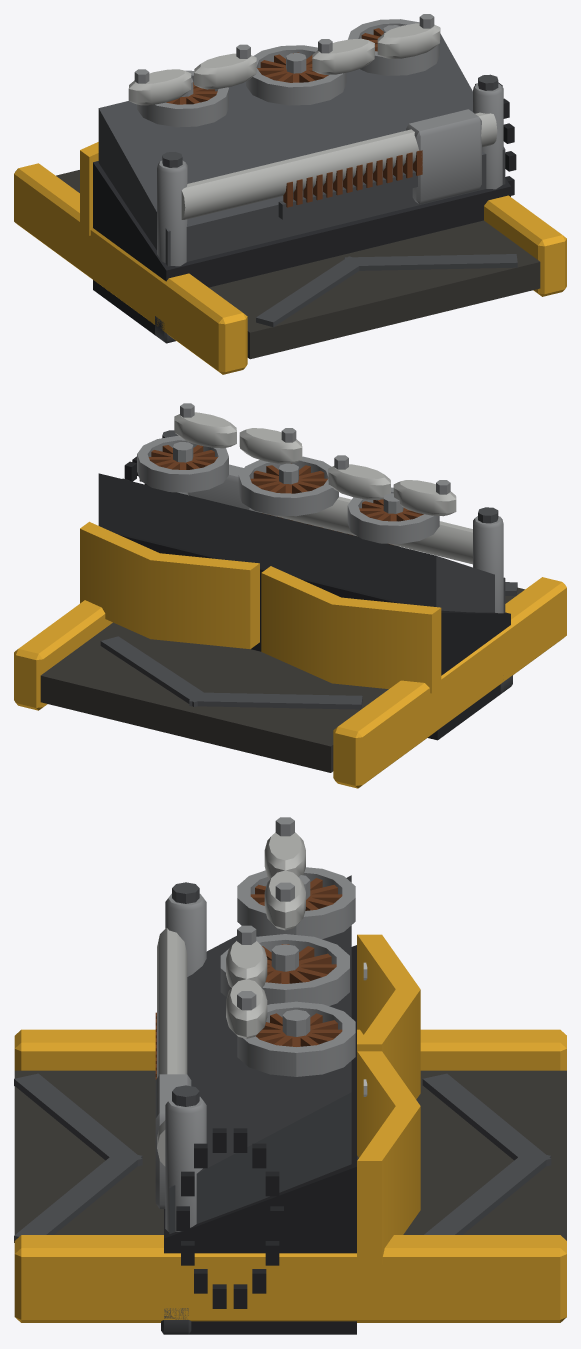
The model's file is lane-splitter.glb.
The picture shows the model from 3 angles, top to bottom: view 1: azimuth 30°, elevation 25°; view 2: azimuth 150°, elevation 25°; view 3: azimuth 270°, elevation 25°; orthographic projection. The views are drawn at different scales.
Parts seen in each view (by area): view 1: body, anim_slide_split_rack, anim_spin_gear.001, anim_spin_gear, anim_spin_gear.002, anim_crank_split_eb, anim_crank_split_wb, anim_crank_split_wa, anim_crank_split_ea; view 2: body, anim_spin_gear.001, anim_spin_gear.002, anim_spin_gear, anim_crank_split_eb, anim_crank_split_wb, anim_crank_split_ea, anim_crank_split_wa, anim_slide_split_rack; view 3: body, anim_spin_gear.002, anim_spin_gear.001, anim_spin_gear, anim_crank_split_eb, anim_crank_split_wb, anim_crank_split_ea, anim_crank_split_wa, anim_slide_split_rack.
Part boxes in pixels (bbox=[...]): body: bbox=[14, 33, 566, 374]; anim_slide_split_rack: bbox=[406, 109, 481, 204]; anim_spin_gear.001: bbox=[246, 45, 346, 105]; anim_spin_gear: bbox=[137, 70, 228, 127]; anim_spin_gear.002: bbox=[348, 19, 439, 75]; anim_crank_split_eb: bbox=[377, 14, 440, 58]; anim_crank_split_wb: bbox=[194, 44, 256, 89]; anim_crank_split_wa: bbox=[128, 69, 191, 105]; anim_crank_split_ea: bbox=[312, 38, 374, 74]; body: bbox=[14, 430, 566, 788]; anim_spin_gear.001: bbox=[238, 456, 338, 516]; anim_spin_gear.002: bbox=[137, 436, 228, 492]; anim_spin_gear: bbox=[347, 487, 439, 543]; anim_crank_split_eb: bbox=[174, 403, 236, 448]; anim_crank_split_wb: bbox=[328, 455, 390, 500]; anim_crank_split_ea: bbox=[239, 428, 302, 463]; anim_crank_split_wa: bbox=[393, 480, 456, 516]; anim_slide_split_rack: bbox=[188, 464, 259, 512]; body: bbox=[14, 875, 566, 1334]; anim_spin_gear.002: bbox=[237, 1001, 355, 1076]; anim_spin_gear.001: bbox=[220, 934, 349, 1005]; anim_spin_gear: bbox=[237, 867, 355, 939]; anim_crank_split_eb: bbox=[226, 979, 267, 1038]; anim_crank_split_wb: bbox=[264, 870, 305, 930]; anim_crank_split_ea: bbox=[226, 925, 267, 987]; anim_crank_split_wa: bbox=[264, 817, 305, 878]; anim_slide_split_rack: bbox=[155, 1074, 191, 1208].
Bounding box in the file's own units: 0.9875 × 0.612 × 1.
